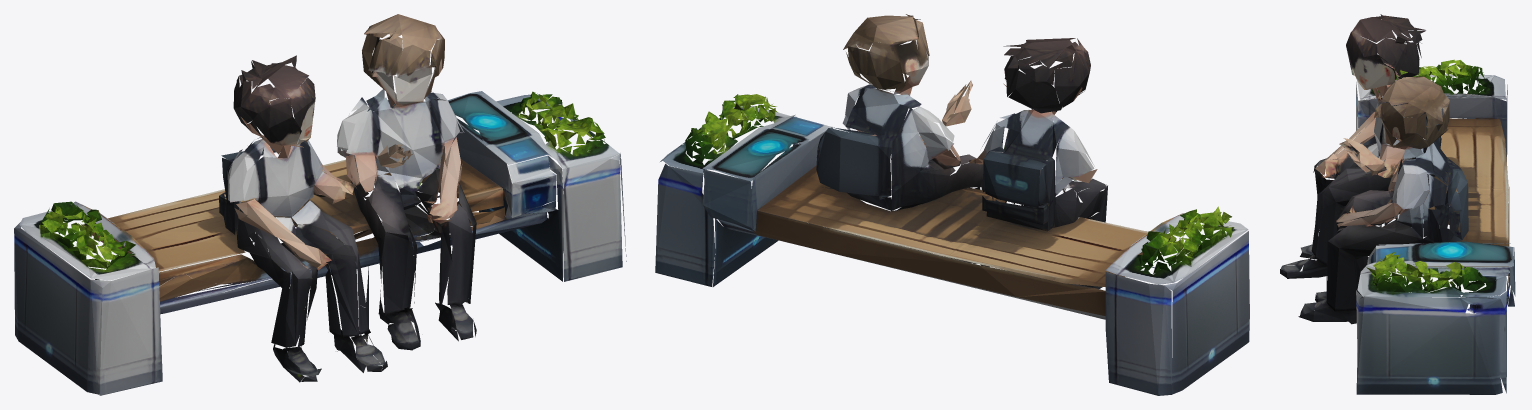
File: school_boys.glb
The picture shows the model from 3 angles, left to right: view 1: azimuth 30°, elevation 25°; view 2: azimuth 150°, elevation 25°; view 3: azimuth 270°, elevation 25°; orthographic projection. The views are drawn at different scales.
Visible parts, largest first — view 1: world.2082; view 2: world.2082; view 3: world.2082.
Boxes of the visible parts, x1=… form: world.2082: x1=14, y1=14, x2=626, y2=395; world.2082: x1=655, y1=14, x2=1249, y2=395; world.2082: x1=1280, y1=14, x2=1515, y2=394.
Size of the model in its own units: 0.996 by 0.4914 by 0.4442.
Materials: 1 (1 with a texture image).
